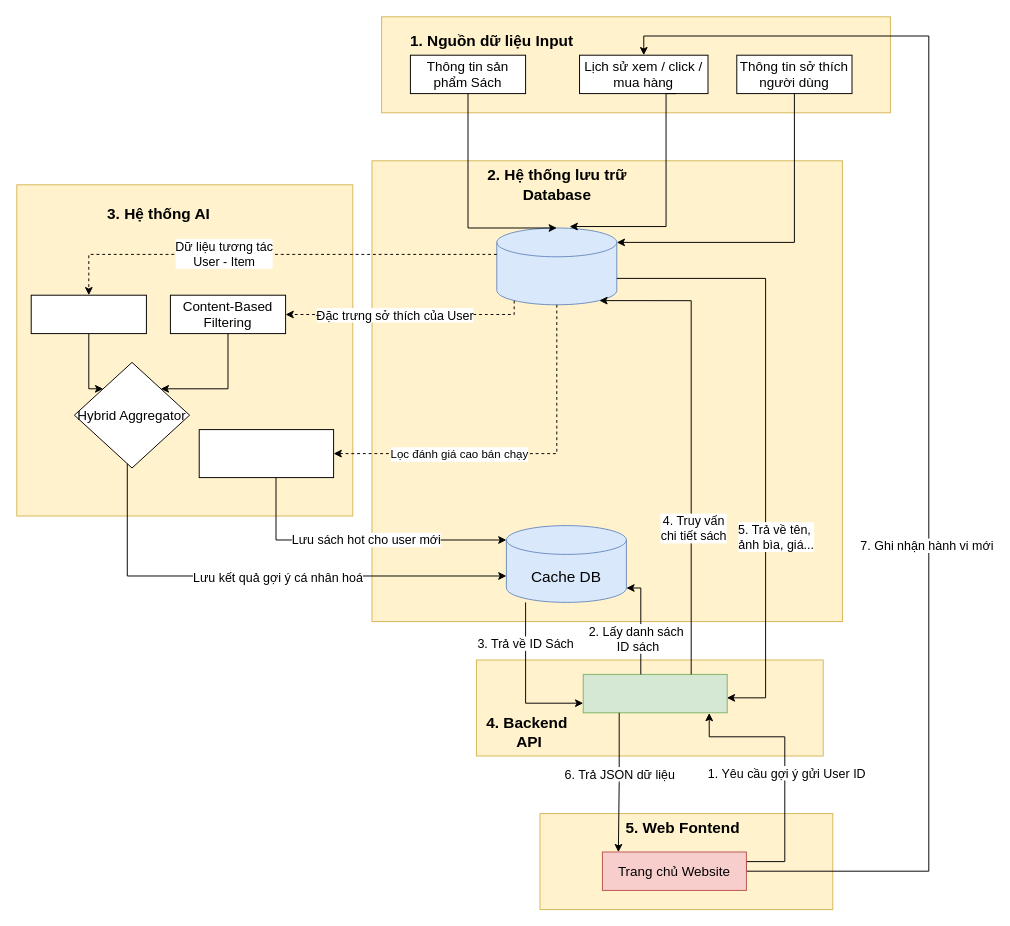
The diagram is 1010 pixels wide and 926 high, and some of its shapes have lost their labels. The shapes that lost their labels are listed below. From the top down, each one's centre as x and y in pixels, then its label:
At (x=556, y=266): "CSDL chính".
At (x=88, y=314): "Collaborative Filtering".
At (x=266, y=453): "Trending / Popular Giải quyết Cold-start".
At (x=654, y=693): "FastAPI Xử lý API & Trả kết quả".
